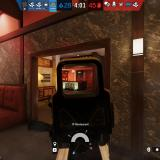Friend_label: (61, 59, 66, 64)
